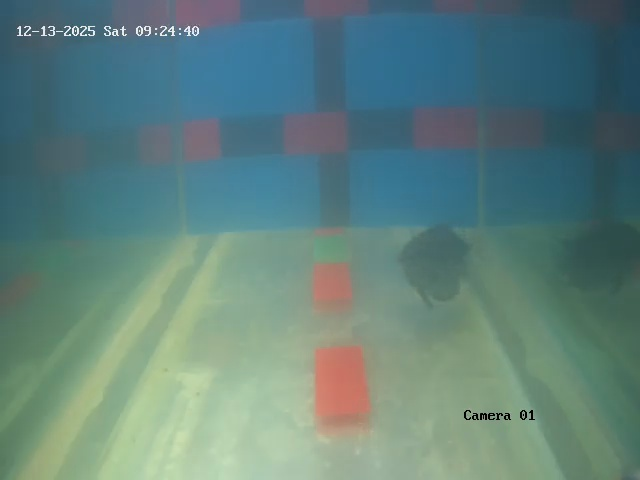fish: (399, 225, 469, 299)
